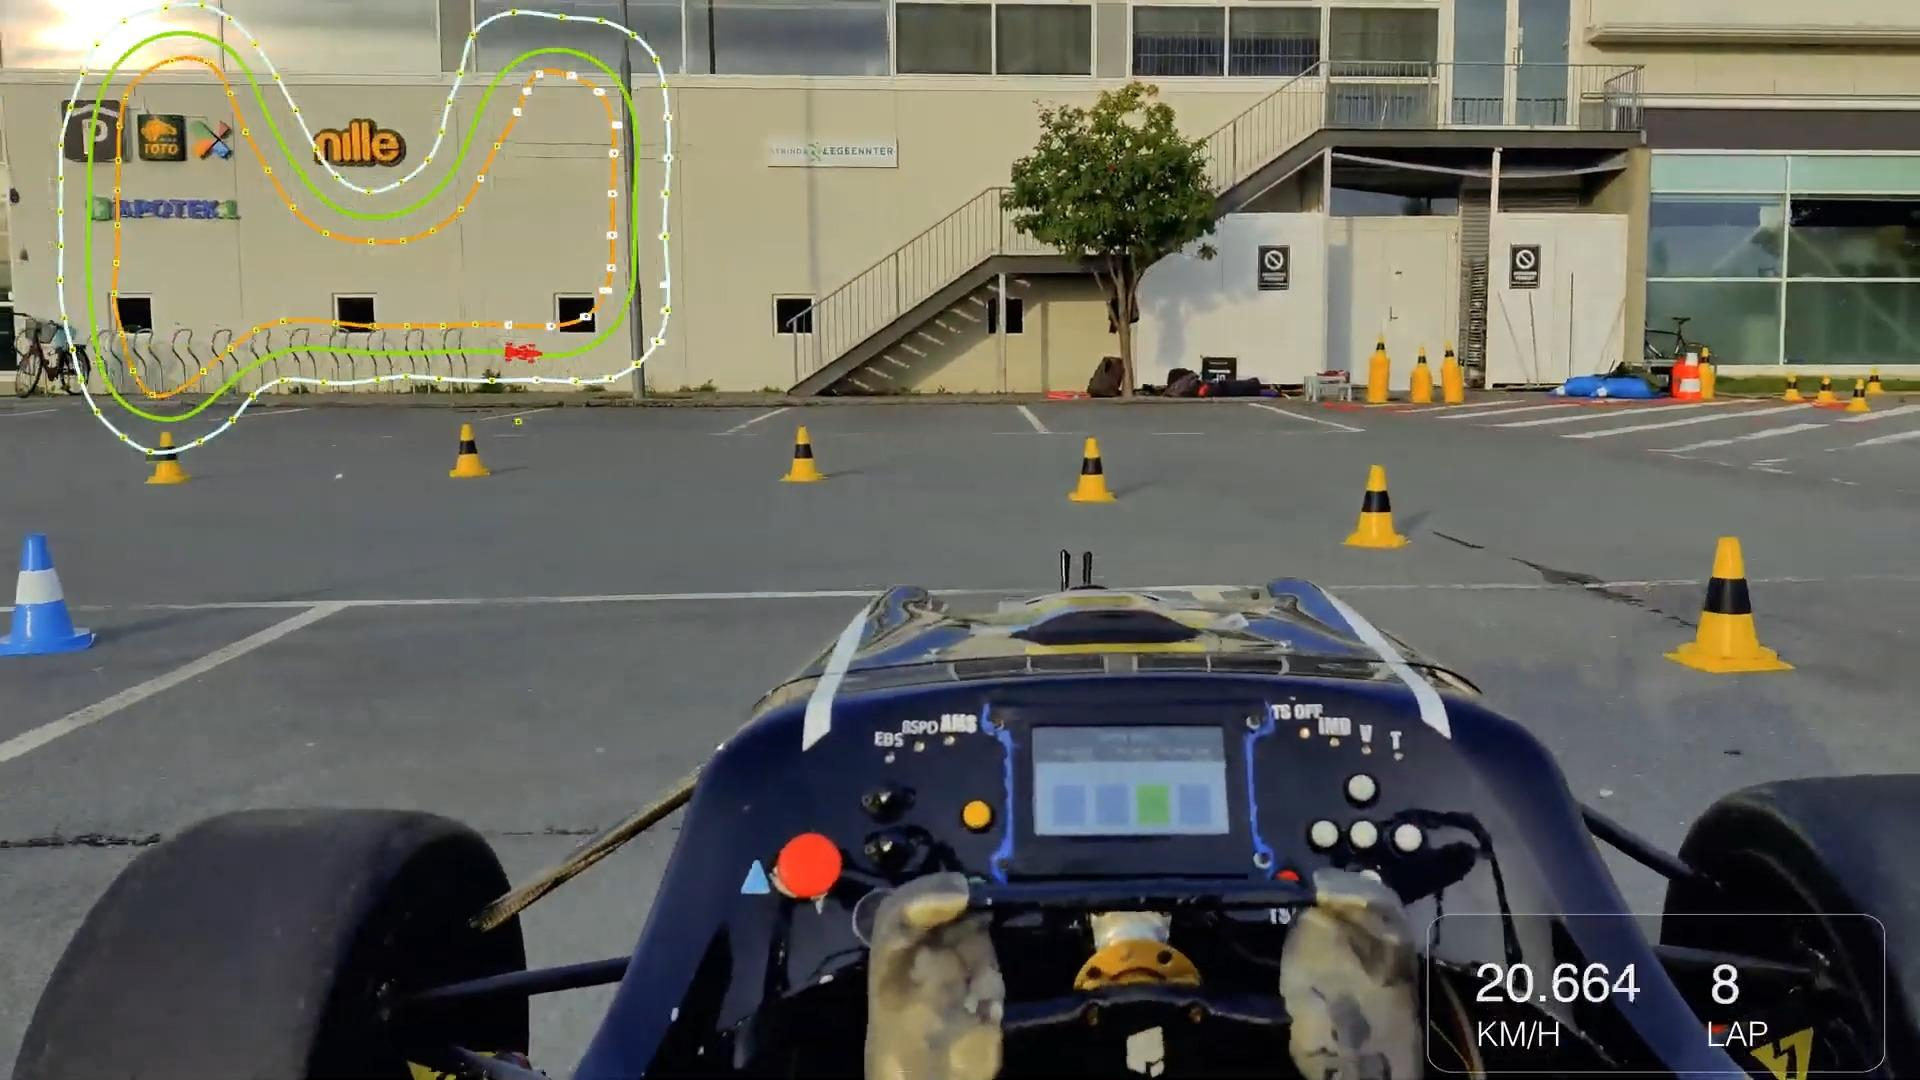blue_cone: (1, 533, 99, 657)
large_orange_cone: (1677, 348, 1702, 402)
yellow_cone: (1663, 529, 1797, 680), (1337, 460, 1414, 551), (1067, 430, 1118, 504), (446, 417, 496, 484), (779, 423, 827, 485), (150, 430, 187, 491), (1410, 347, 1432, 377), (1369, 335, 1389, 367), (1441, 340, 1460, 372)
